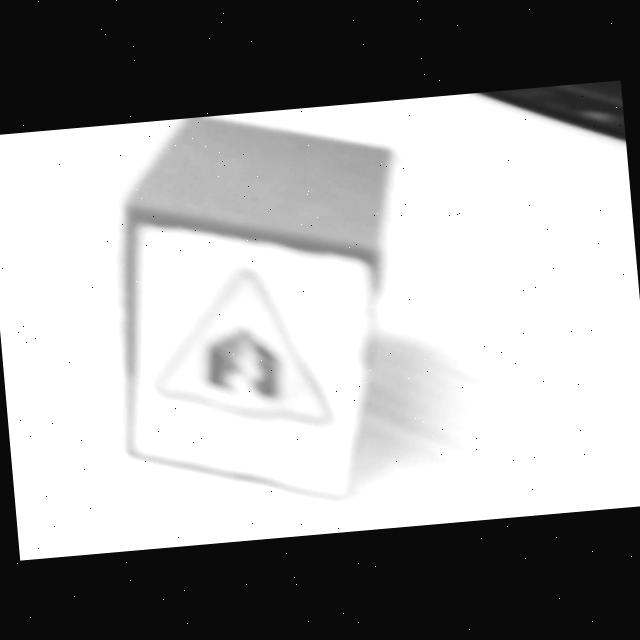Earthquake: (152, 266, 337, 432)
